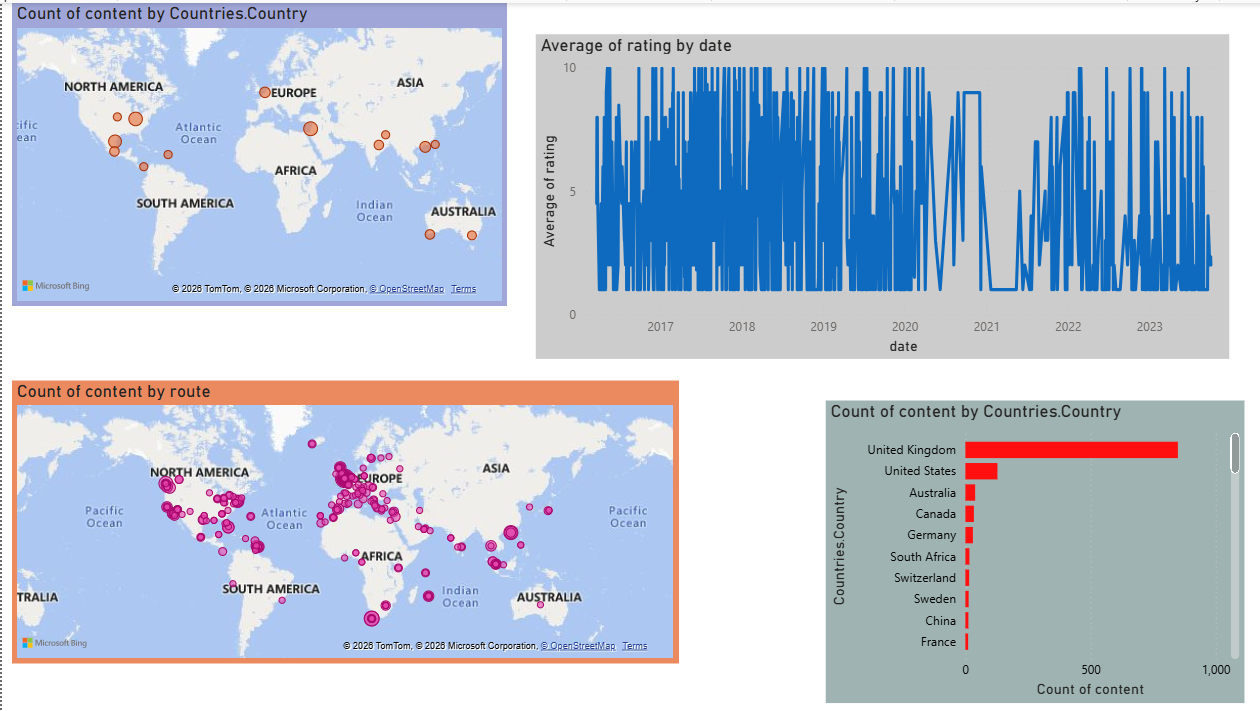

The page's visual inventory and layout, read from the dashboard file:
{"tool":"powerbi","page":{"name":"Route & Customer Analysis","canvas":[1280,720],"ordinal":2},"visuals":[{"type":"map","fields":{"Category":["ba_reviews.Countries.Country"],"Size":["CountNonNull(ba_reviews.content)"]},"box":[9.8,0,484.2,295.9],"z":0},{"type":"map","fields":{"Category":["ba_reviews.route"],"Size":["CountNonNull(ba_reviews.content)"]},"box":[9.8,369.3,651.8,276.4],"z":1000},{"type":"clusteredBarChart","fields":{"Category":["ba_reviews.Countries.Country"],"Y":["CountNonNull(ba_reviews.content)"]},"box":[805.8,388.9,409.6,295.9],"z":2000},{"type":"lineChart","fields":{"Category":["ba_reviews.date"],"Y":["Avg(ba_reviews.rating)"]},"box":[522.1,30.6,678.7,317.9],"z":4000}]}

Visuals, with their boxes in screenshot pixels (x1, y1, x2, y2), scaled from the page's 1280x720 canvas onto the 1260x711 screenshot:
map - ba_reviews.Countries.Country x CountNonNull(ba_reviews.content): region(10, 0, 486, 292)
map - ba_reviews.route x CountNonNull(ba_reviews.content): region(10, 365, 651, 638)
clusteredBarChart - ba_reviews.Countries.Country x CountNonNull(ba_reviews.content): region(793, 384, 1196, 676)
lineChart - ba_reviews.date x Avg(ba_reviews.rating): region(514, 30, 1182, 344)
